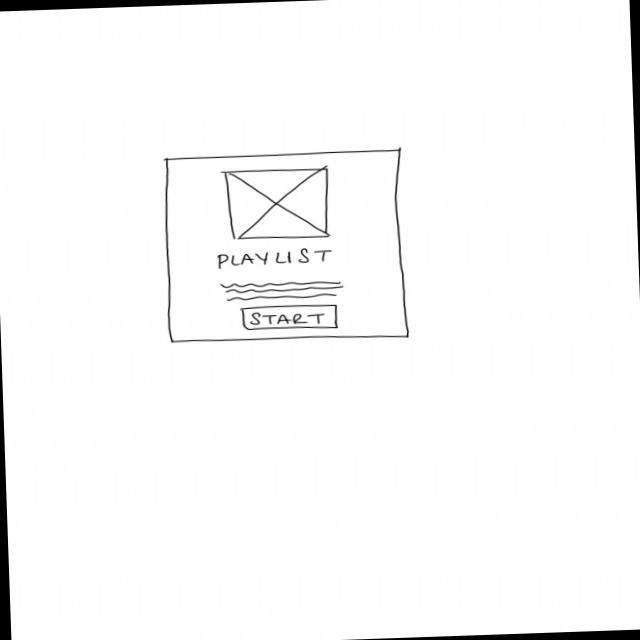button: (240, 302, 340, 332)
container: (162, 147, 410, 346)
image: (223, 166, 332, 241)
label: (216, 246, 334, 271)
textbox: (218, 278, 344, 302)
